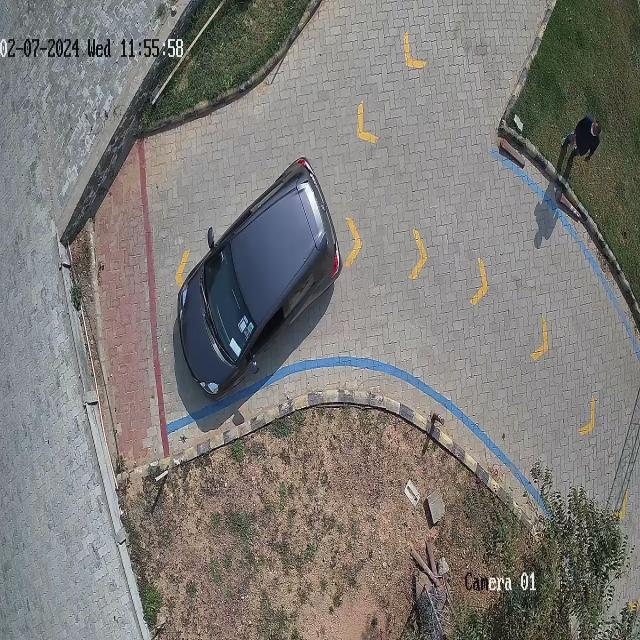car: (177, 153, 345, 406)
